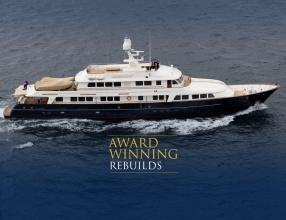yacht: (2, 38, 275, 122)
